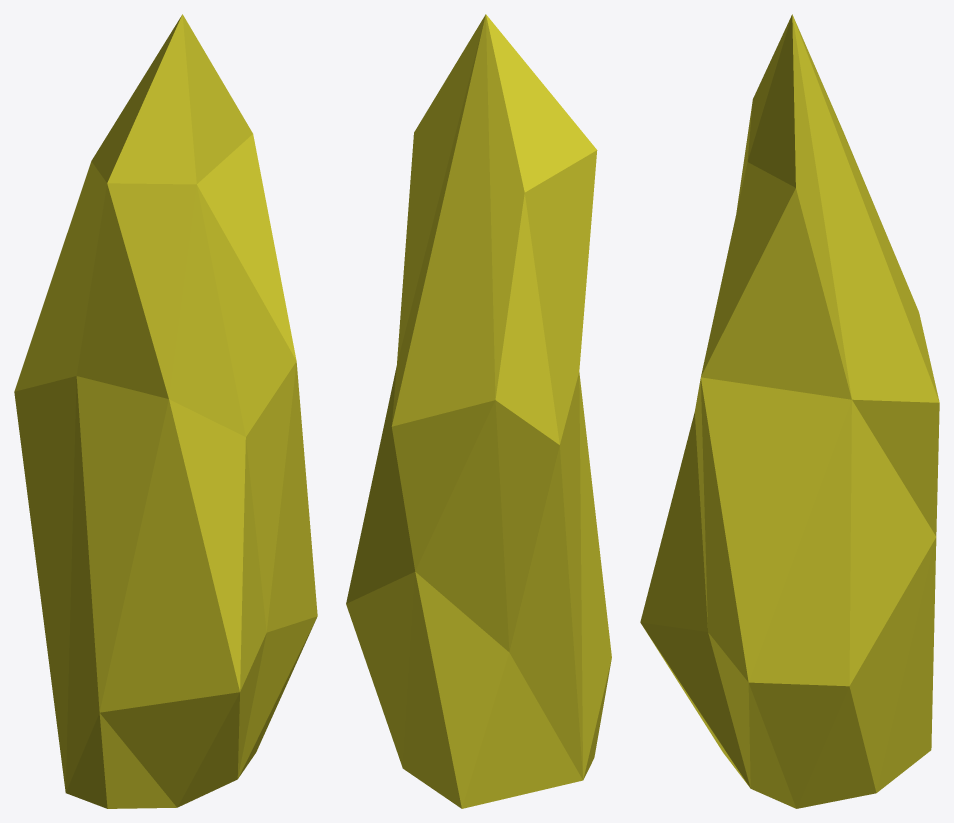
Rendered from Tree_1.fbx.
The picture shows the model from 3 angles, left to right: view 1: azimuth 30°, elevation 25°; view 2: azimuth 150°, elevation 25°; view 3: azimuth 270°, elevation 25°; orthographic projection. The views are drawn at different scales.
Visible parts, largest first — view 1: Tree_1; view 2: Tree_1; view 3: Tree_1.
Boxes of the visible parts, x1,y1,x2,y2 form: Tree_1: (14, 14, 317, 808); Tree_1: (346, 14, 611, 808); Tree_1: (640, 14, 939, 808).
Size of the model in its own units: 375 by 1143 by 409.
